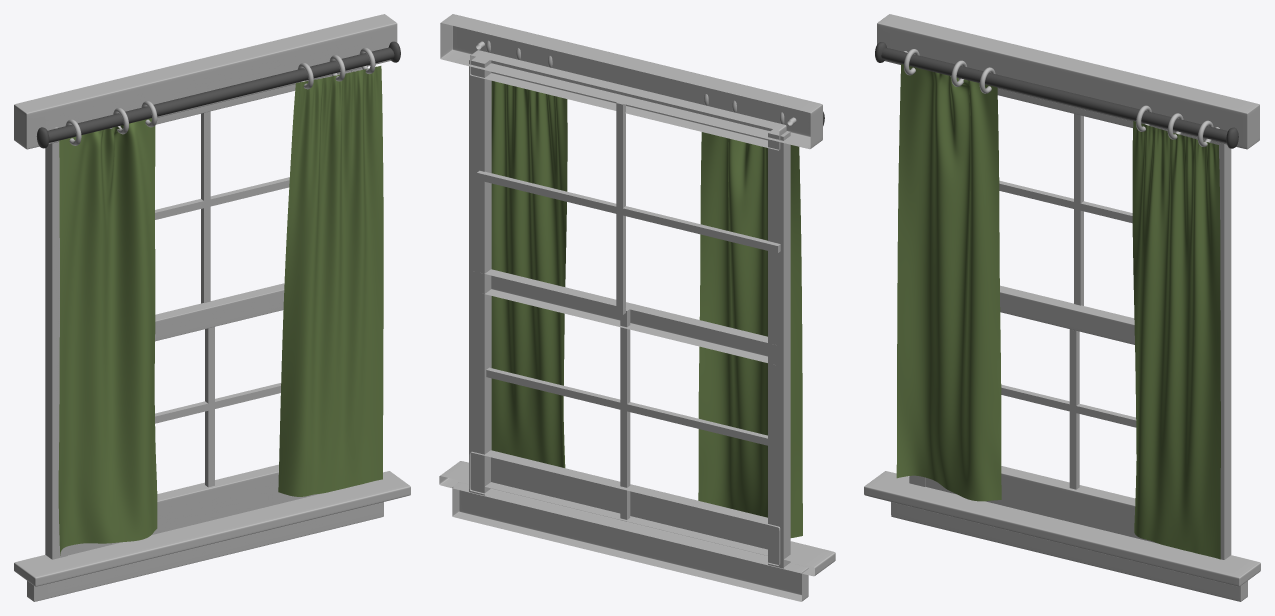
The model's file is WindowWithCurtain.glb.
3 views of the same model, side by side, from view 1: azimuth 30°, elevation 25°; view 2: azimuth 150°, elevation 25°; view 3: azimuth 330°, elevation 25° (orthographic).
Parts seen in each view (by area): view 1: Window_Frame9_lambert1_0; view 2: Window_Frame9_lambert1_0; view 3: Window_Frame9_lambert1_0.
Boxes of the visible parts, x1=… form: Window_Frame9_lambert1_0: x1=14, y1=14, x2=410, y2=601; Window_Frame9_lambert1_0: x1=439, y1=14, x2=835, y2=601; Window_Frame9_lambert1_0: x1=864, y1=14, x2=1260, y2=601.
Bounding box in the file's own units: 165 × 207 × 19.51.
